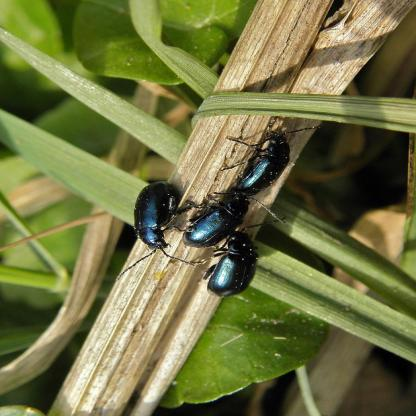beetle: (236, 126, 300, 200), (178, 186, 256, 246), (199, 232, 262, 299), (133, 179, 186, 252)
